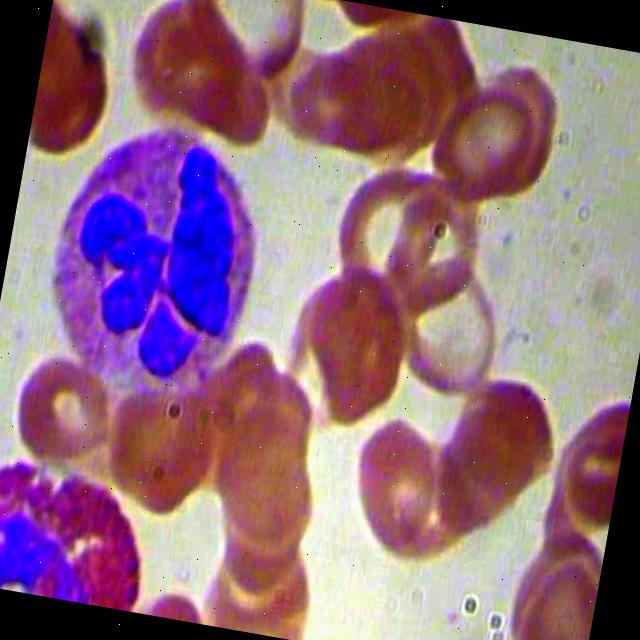RBC: (278, 245, 432, 445), (379, 243, 518, 407), (88, 366, 230, 524), (331, 402, 459, 558), (414, 65, 544, 206), (0, 338, 123, 472), (169, 0, 318, 101)
WBC: (23, 99, 292, 408), (0, 452, 167, 614)
